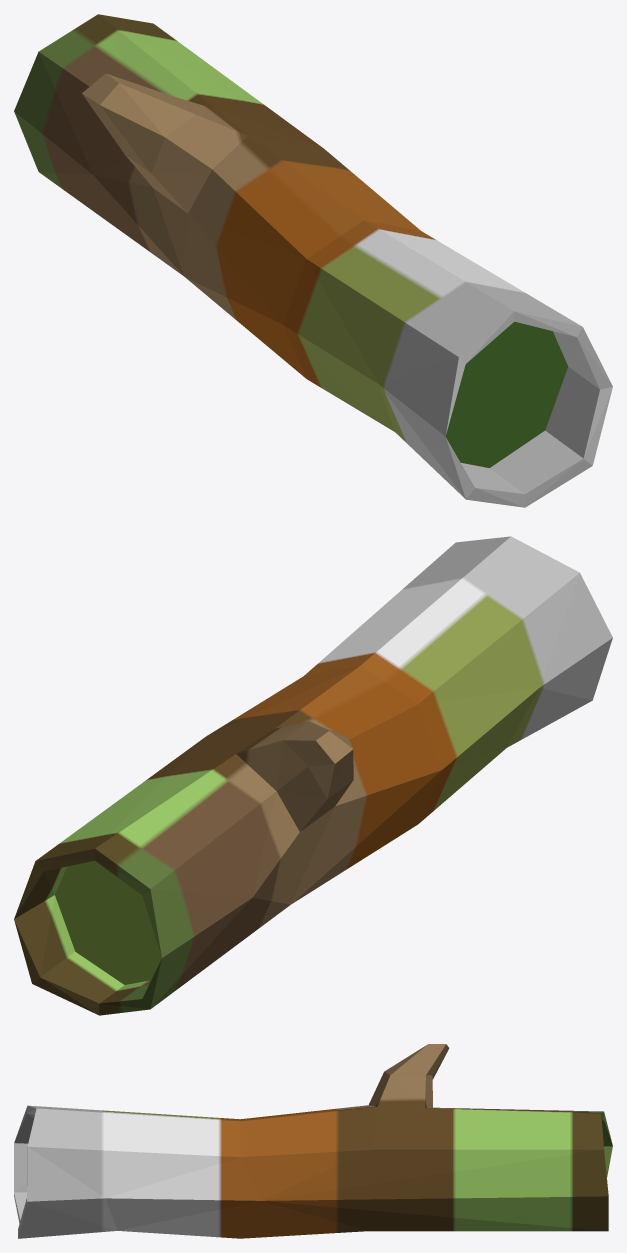
File: Stump_06.fbx
The picture shows the model from 3 angles, top to bottom: view 1: azimuth 30°, elevation 25°; view 2: azimuth 150°, elevation 25°; view 3: azimuth 270°, elevation 25°; orthographic projection. The views are drawn at different scales.
Visible parts, largest first — view 1: Stump_06; view 2: Stump_06; view 3: Stump_06.
Boxes of the visible parts, x1=… form: Stump_06: x1=14, y1=14, x2=612, y2=507; Stump_06: x1=14, y1=536, x2=612, y2=1015; Stump_06: x1=14, y1=1044, x2=612, y2=1238.
Size of the model in its own units: 1.64 by 1.65 by 5.71.
